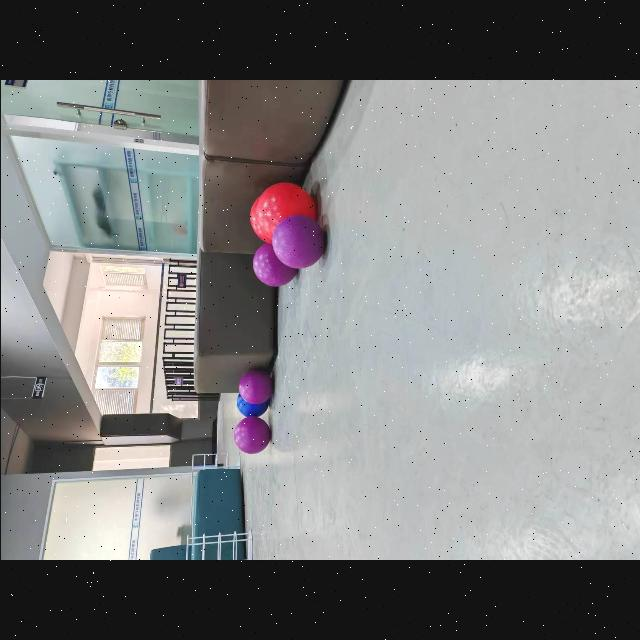B: (236, 393, 268, 416)
P: (271, 214, 324, 268), (252, 244, 296, 286), (233, 416, 270, 454), (237, 370, 273, 405)
R: (255, 182, 315, 240), (248, 198, 271, 244)
S: (183, 531, 251, 560), (190, 453, 239, 482)
